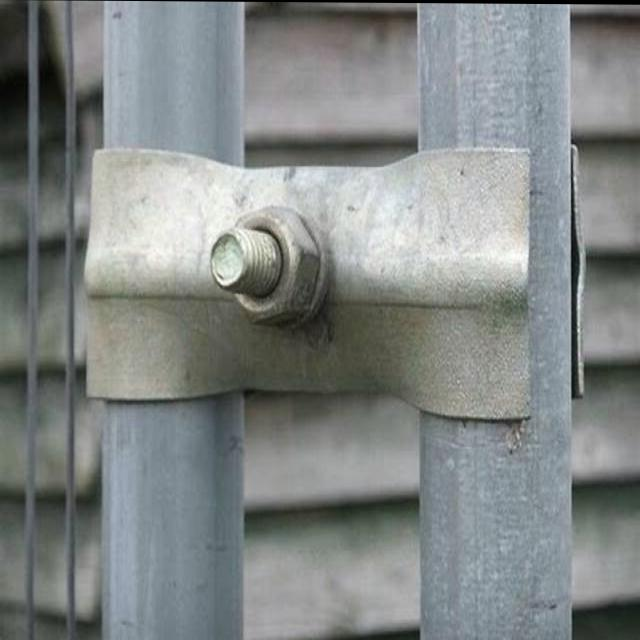Regular bolt: (229, 204, 315, 323)
